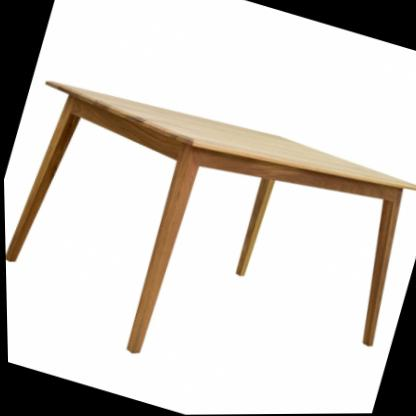Table: (1, 52, 416, 416)
